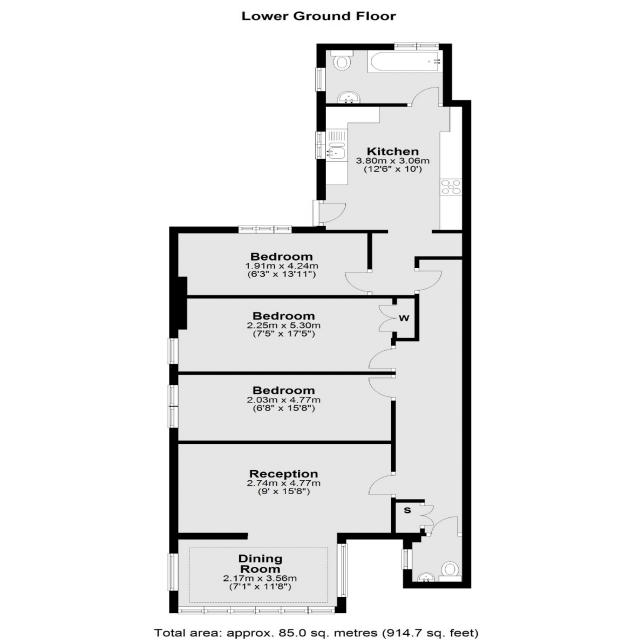DOOR: (312, 200, 346, 227), (368, 471, 396, 499), (425, 516, 463, 536), (368, 374, 396, 401), (368, 345, 396, 372), (344, 269, 372, 296), (414, 267, 442, 294), (407, 86, 443, 107)
ROOM: (168, 440, 396, 615), (312, 87, 471, 233), (167, 295, 420, 375), (167, 371, 396, 444), (169, 225, 373, 299)
WINDOW: (177, 605, 336, 615), (335, 543, 349, 598), (167, 384, 179, 429), (238, 225, 293, 234), (167, 553, 179, 592), (394, 42, 440, 51), (167, 337, 179, 365), (314, 131, 326, 159), (400, 548, 414, 570), (314, 67, 326, 92)
